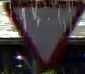Give way: (1, 2, 84, 73)
